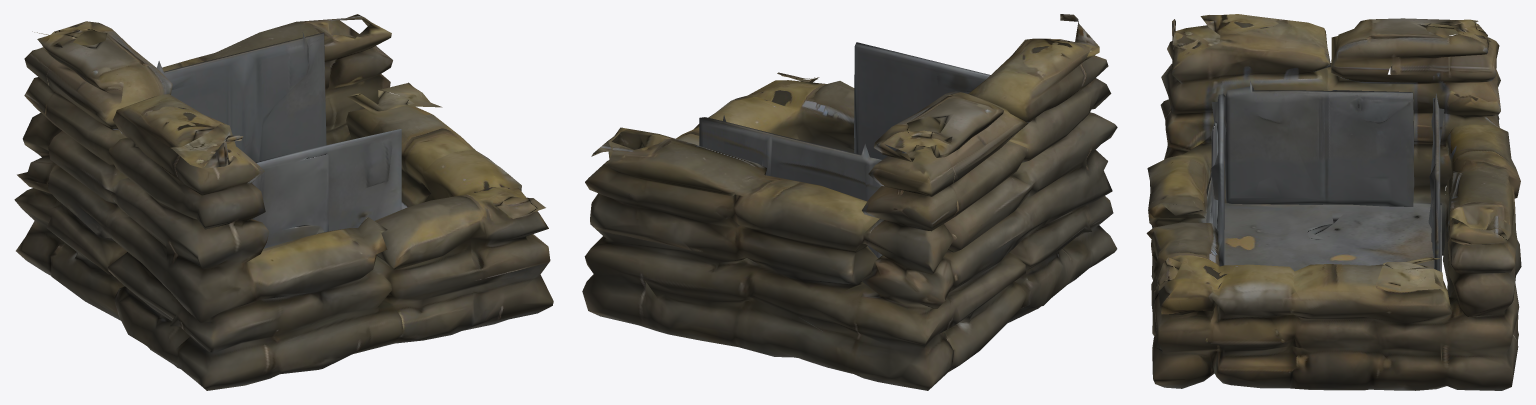
3 views of the same model, side by side, from view 1: azimuth 30°, elevation 25°; view 2: azimuth 150°, elevation 25°; view 3: azimuth 270°, elevation 25° (orthographic). The views are drawn at different scales.
Visible parts, largest first — view 1: tripo_node_cd12940f-f832-4309-87db-bbb987461f78; view 2: tripo_node_cd12940f-f832-4309-87db-bbb987461f78; view 3: tripo_node_cd12940f-f832-4309-87db-bbb987461f78.
Boxes of the visible parts, box(x1,y1,x2,y2) form: tripo_node_cd12940f-f832-4309-87db-bbb987461f78: box(14, 14, 553, 390); tripo_node_cd12940f-f832-4309-87db-bbb987461f78: box(582, 14, 1117, 390); tripo_node_cd12940f-f832-4309-87db-bbb987461f78: box(1146, 14, 1521, 390).
Bounding box in the file's own units: 0.9715 × 0.6509 × 0.9292.
Materials: 1 (1 with a texture image).
